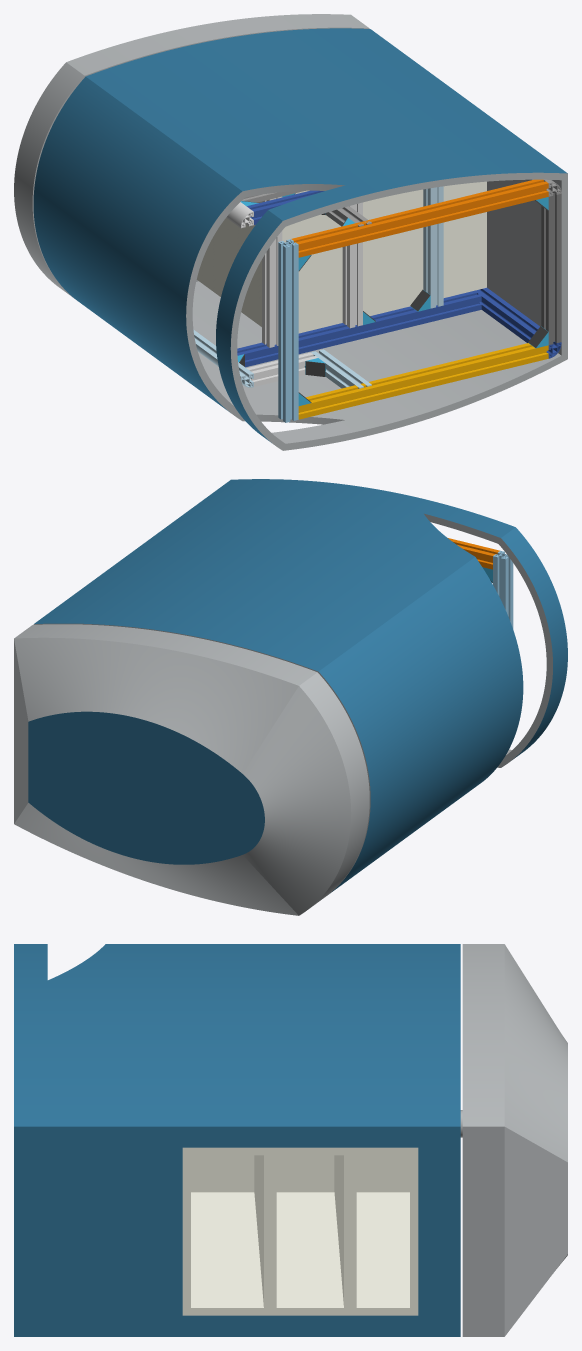
Rendered from chassis.dae.
3 views of the same model, one above another, from view 1: azimuth 30°, elevation 25°; view 2: azimuth 150°, elevation 25°; view 3: azimuth 270°, elevation 25° (orthographic). The views are drawn at different scales.
Visible parts, largest first — view 1: chassis_cover, compartment, medibot_p_s40x40_9, medibot_p_s40x40_11, medibot_p_s40x40_22, medibot_p_s40x40_12, medibot_p_s40x40_10, medibot_p_g_40x40_25, medibot_p_g_40x40_24, medibot_p_g_40x40_23, medibot_p_sr40_6, medibot_p_s40x40_16 (+3 smaller); view 2: chassis_cover, medibot_p_s40x40_12, medibot_p_s40x40_9; view 3: chassis_cover, compartment.
Boxes of the visible parts, <box> form: chassis_cover: <box>14,14,567,450</box>; compartment: <box>196,181,486,333</box>; medibot_p_s40x40_9: <box>291,179,548,257</box>; medibot_p_s40x40_11: <box>298,343,548,419</box>; medibot_p_s40x40_22: <box>237,291,481,367</box>; medibot_p_s40x40_12: <box>278,239,298,422</box>; medibot_p_s40x40_10: <box>541,192,561,344</box>; medibot_p_g_40x40_25: <box>423,186,443,308</box>; medibot_p_g_40x40_24: <box>342,202,362,328</box>; medibot_p_g_40x40_23: <box>262,196,282,347</box>; medibot_p_sr40_6: <box>474,287,561,358</box>; medibot_p_s40x40_16: <box>311,349,371,388</box>; chassis_cover: <box>14,479,567,915</box>; medibot_p_s40x40_12: <box>493,550,513,628</box>; medibot_p_s40x40_9: <box>448,538,499,569</box>; chassis_cover: <box>14,944,567,1336</box>; compartment: <box>182,1147,418,1315</box>.
Size of the model in its own units: 1.05 by 1.32 by 0.7161.
